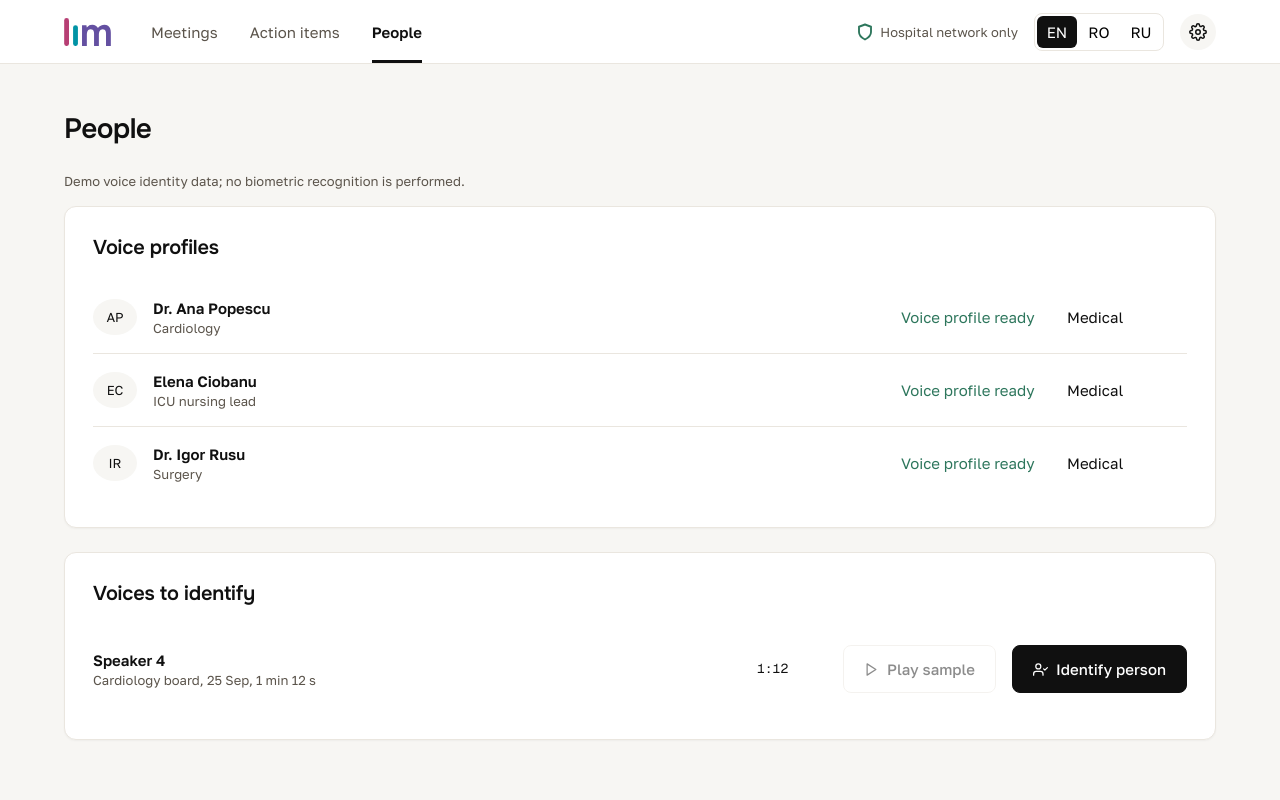
it: application flows › keeps voice profiles separate from unidentified speaker clusters
This screenshot has width=1280, height=800.
Expected: the heading "People" is shown, [64,111,151,147]
Expected: the heading "Voice profiles" is shown, [93,235,219,260]
Click the button "Identify person" at (1100, 669), box [1012,645,1187,693]
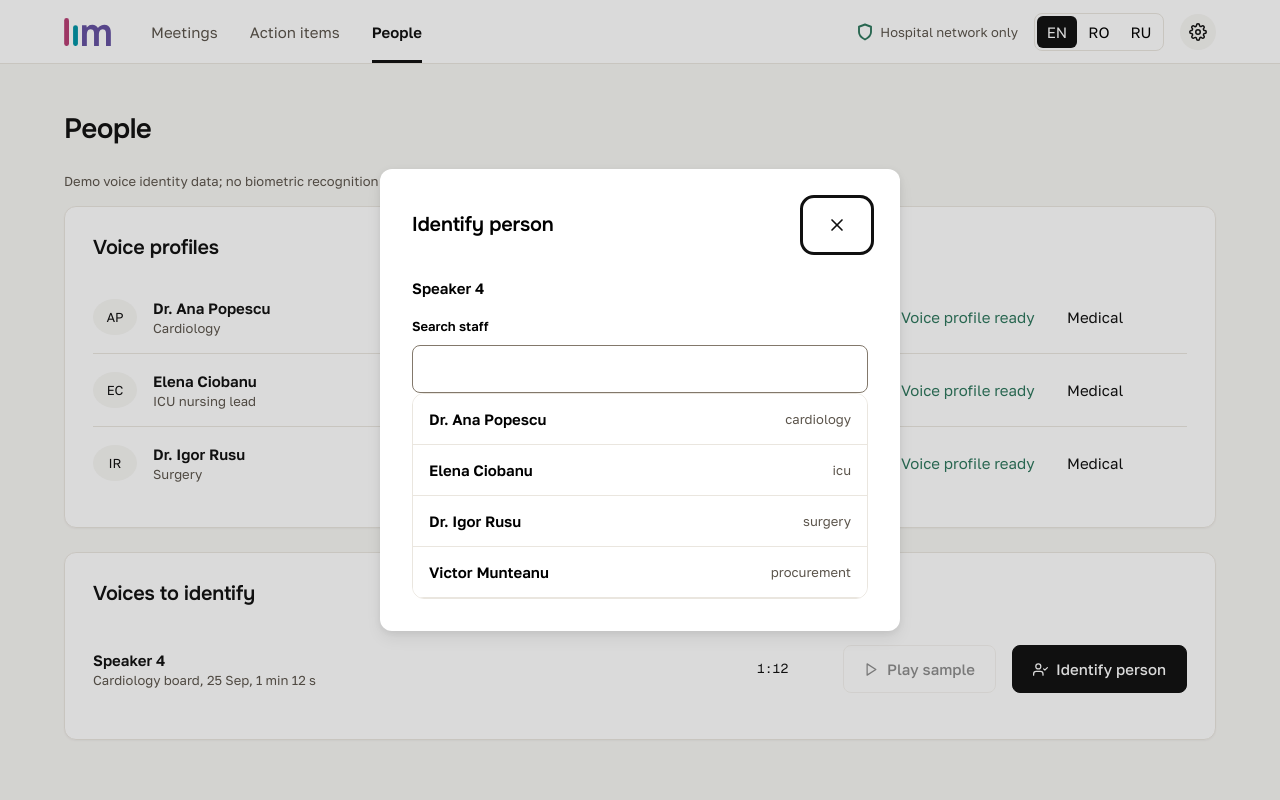
Expected: the text "Victor Munteanu" is shown, [429,561,549,583]
Click the button "Victor Munteanu procurement" at (489, 572), box [413,547,867,598]
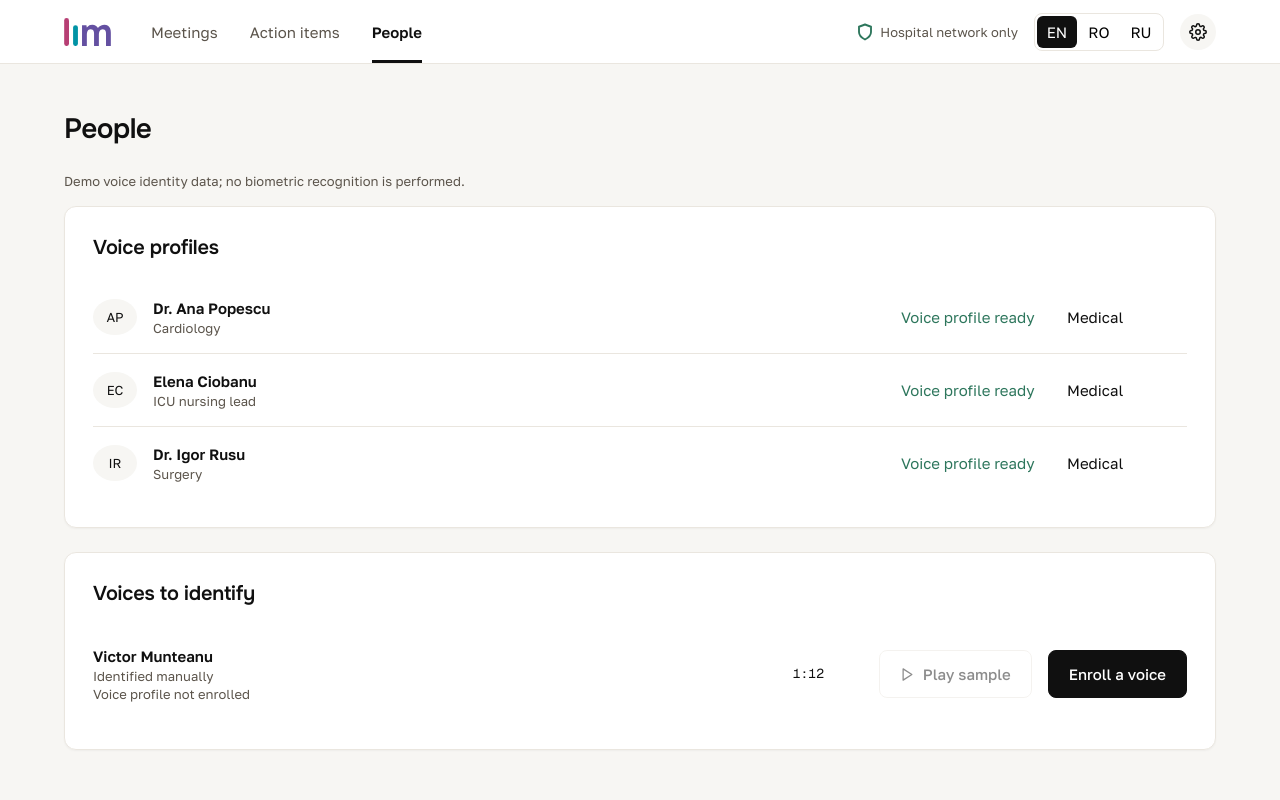
Expected: the text "Identified manually" is shown, [93,668,214,684]
Expected: the text "Voice profile not enrolled" is shown, [93,686,250,702]
